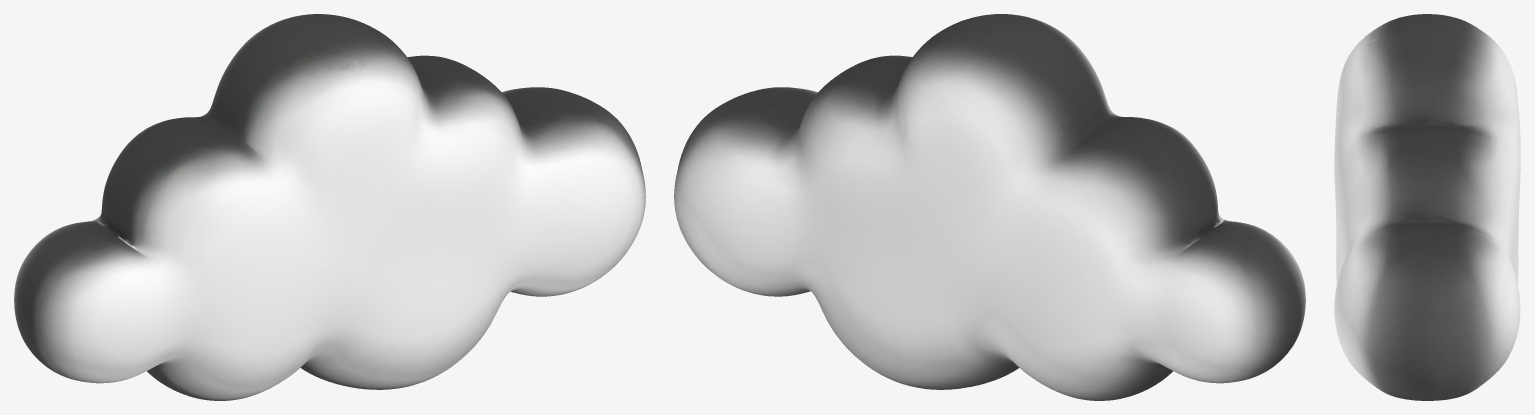
Rendered from Nuvola.glb.
3 renders of one model, left to right at view 1: azimuth 30°, elevation 25°; view 2: azimuth 150°, elevation 25°; view 3: azimuth 270°, elevation 25°, orthographic. The views are drawn at different scales.
Bounding box in the file's own units: 1.9 × 1.1 × 0.5757.
1 material, 1 textured.
